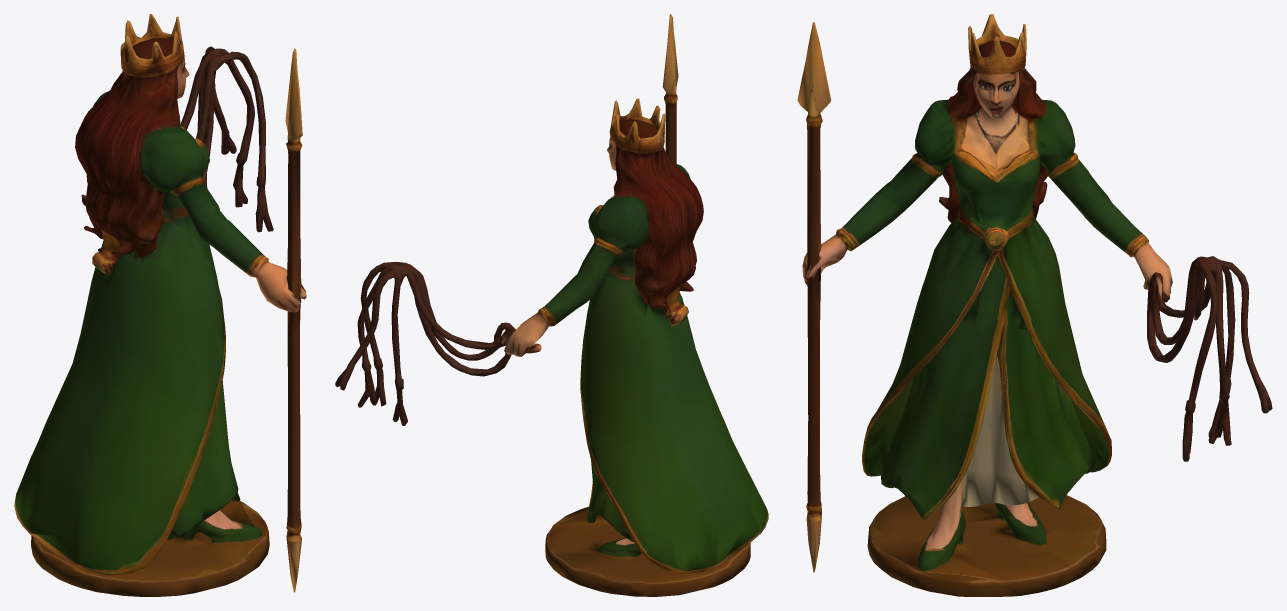
The picture shows the model from 3 angles, left to right: view 1: azimuth 30°, elevation 25°; view 2: azimuth 150°, elevation 25°; view 3: azimuth 270°, elevation 25°; orthographic projection. The views are drawn at different scales.
Parts seen in each view (by area): view 1: tripo_node_41ce2015-2314-42af-92cc-e506248cf699; view 2: tripo_node_41ce2015-2314-42af-92cc-e506248cf699; view 3: tripo_node_41ce2015-2314-42af-92cc-e506248cf699.
Part boxes in pixels (<box>): tripo_node_41ce2015-2314-42af-92cc-e506248cf699: <box>14,14,306,596</box>; tripo_node_41ce2015-2314-42af-92cc-e506248cf699: <box>335,14,768,596</box>; tripo_node_41ce2015-2314-42af-92cc-e506248cf699: <box>797,14,1272,596</box>.
Bounding box in the file's own units: 0.6214 × 0.9988 × 0.7737.
Materials: 1 (1 with a texture image).
